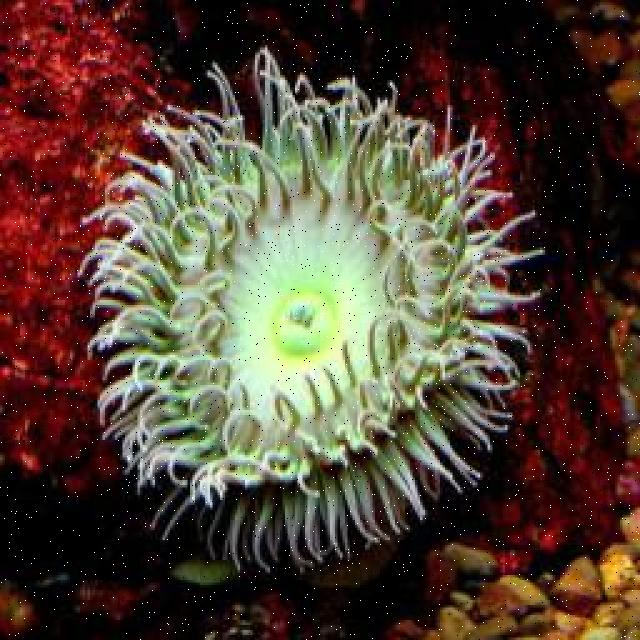reefs: (77, 47, 545, 573)
